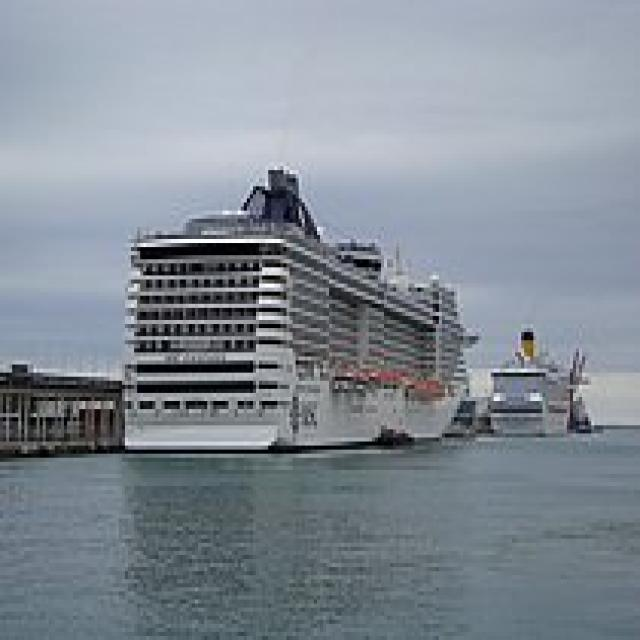Cruise: (116, 162, 478, 454), (485, 320, 573, 437)
